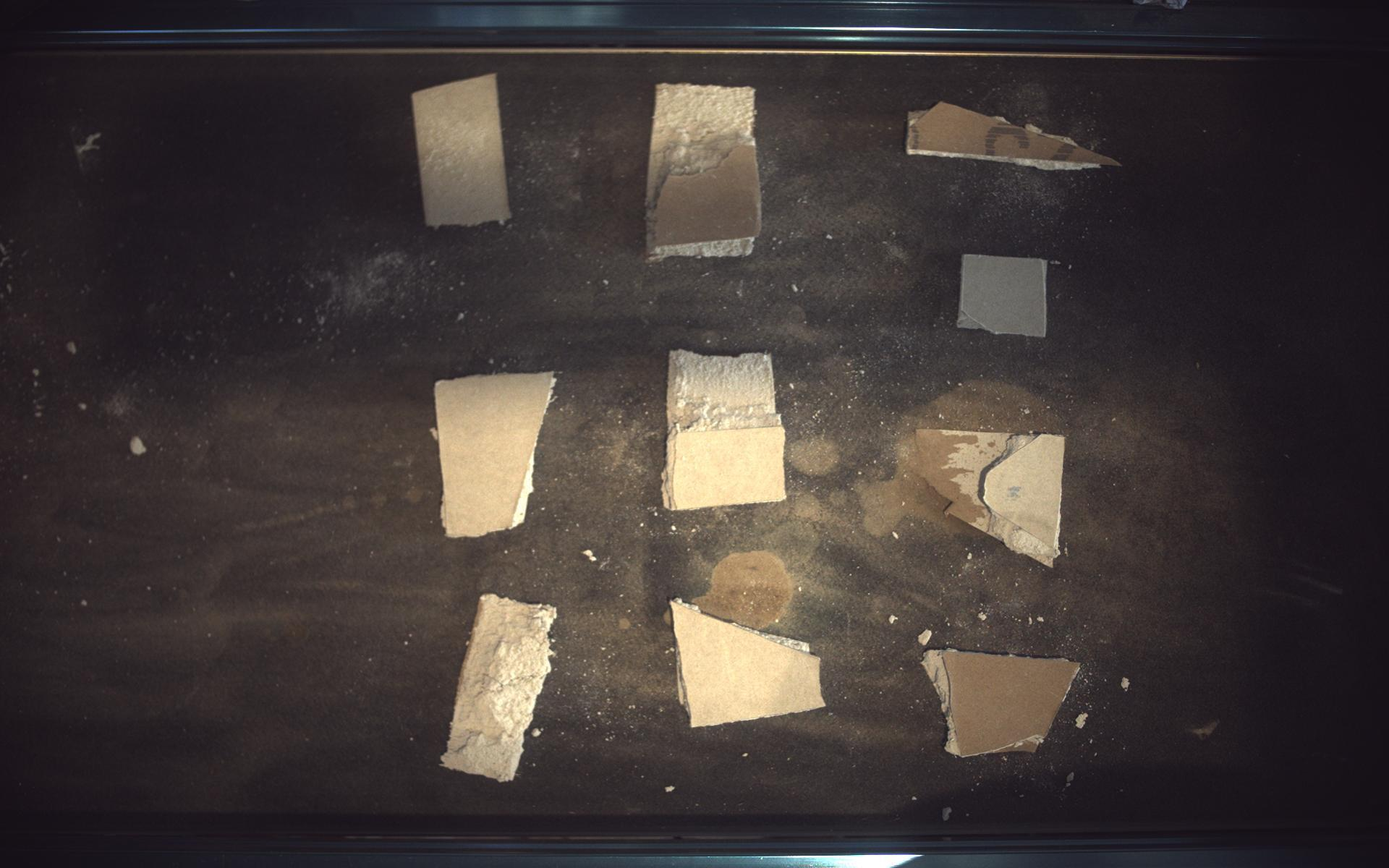gypsum_board: (441, 595, 557, 783), (917, 427, 1067, 568), (647, 82, 763, 260), (663, 349, 787, 511), (436, 373, 556, 538), (671, 601, 826, 728), (924, 650, 1082, 759), (412, 72, 511, 226), (908, 101, 1123, 169), (959, 254, 1049, 337)
